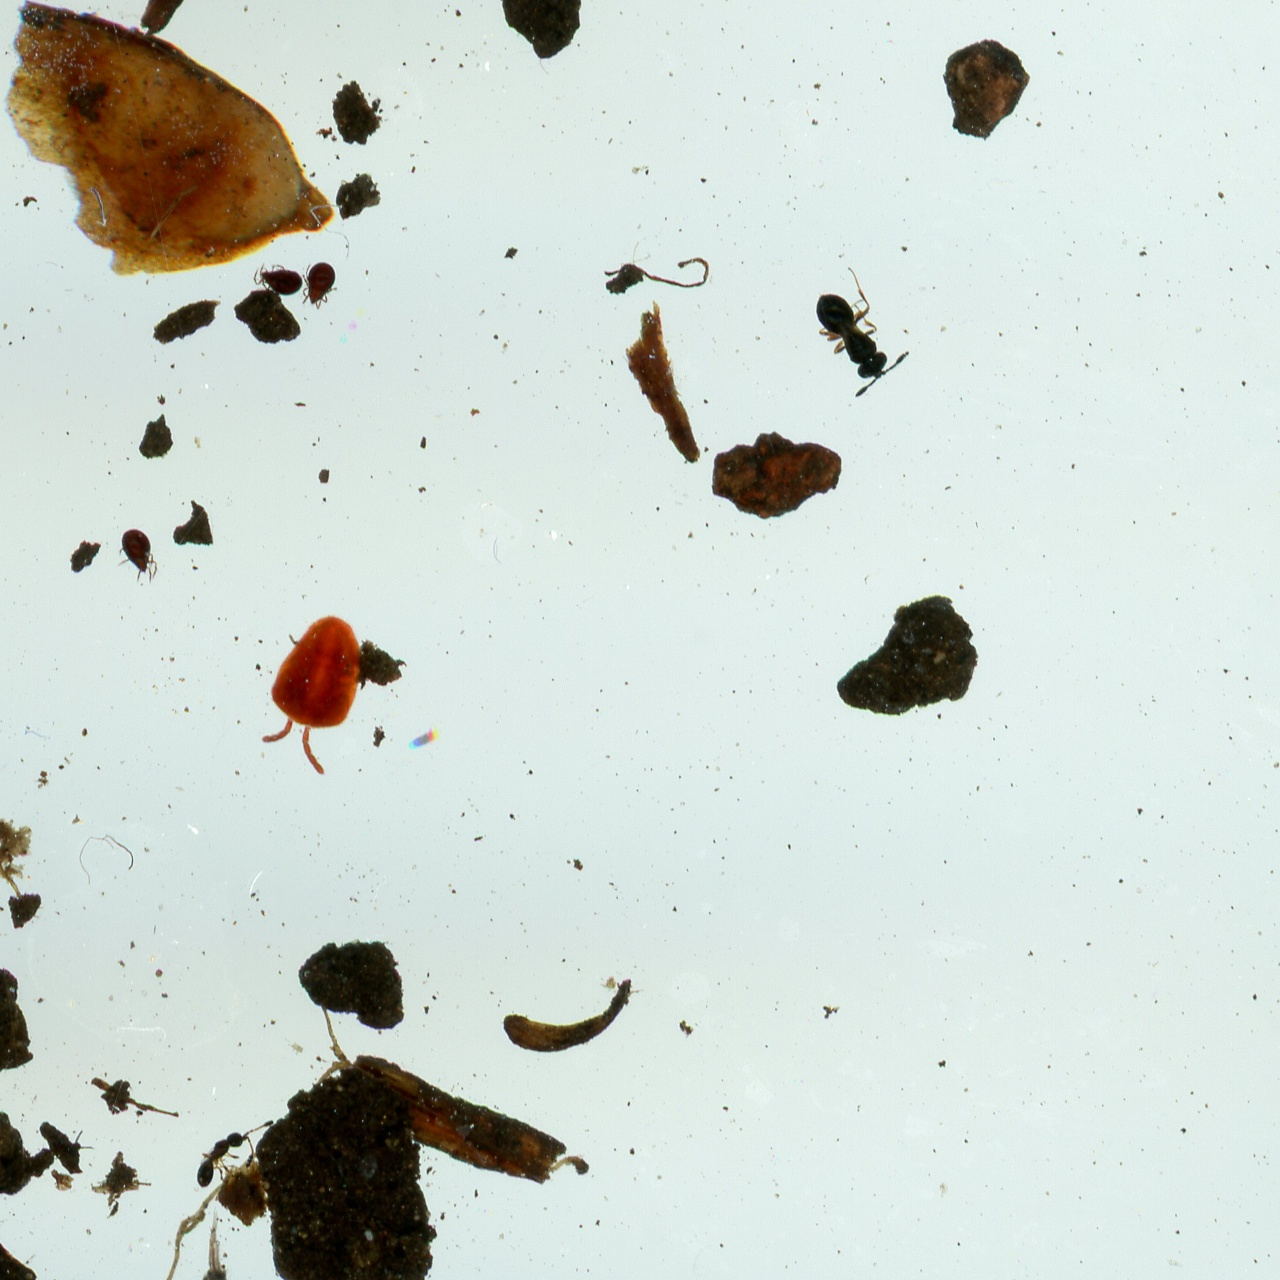arthropod: (779, 249, 938, 416), (252, 612, 370, 780), (156, 1203, 252, 1280), (191, 1115, 280, 1191), (288, 246, 353, 322), (112, 522, 163, 587), (249, 260, 305, 305)
